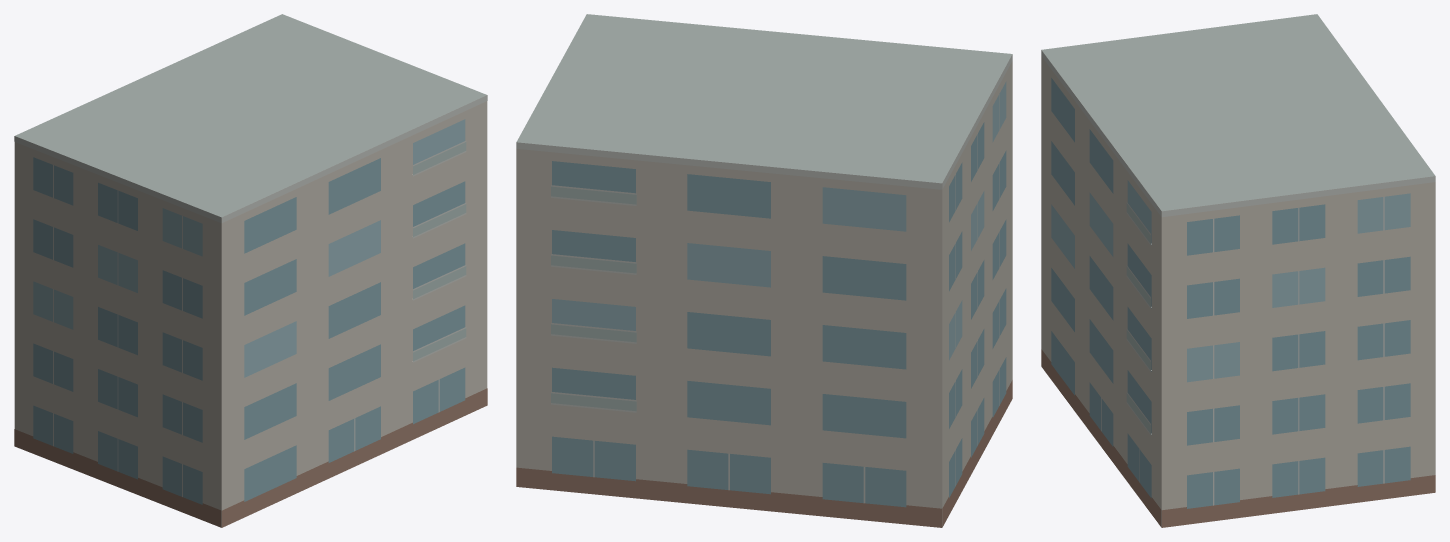
The model's file is survey-upis-32727506.glb.
3 views of the same model, side by side, from view 1: azimuth 30°, elevation 25°; view 2: azimuth 150°, elevation 25°; view 3: azimuth 270°, elevation 25° (orthographic). The views are drawn at different scales.
Parts seen in each view (by area): view 1: survey-upis-32727506.tmp; view 2: survey-upis-32727506.tmp; view 3: survey-upis-32727506.tmp.
Boxes of the visible parts, bbox=[...] form: survey-upis-32727506.tmp: bbox=[14, 14, 487, 527]; survey-upis-32727506.tmp: bbox=[516, 14, 1012, 527]; survey-upis-32727506.tmp: bbox=[1041, 14, 1435, 527].
Bounding box in the file's own units: 17.39 × 13 × 14.69.
